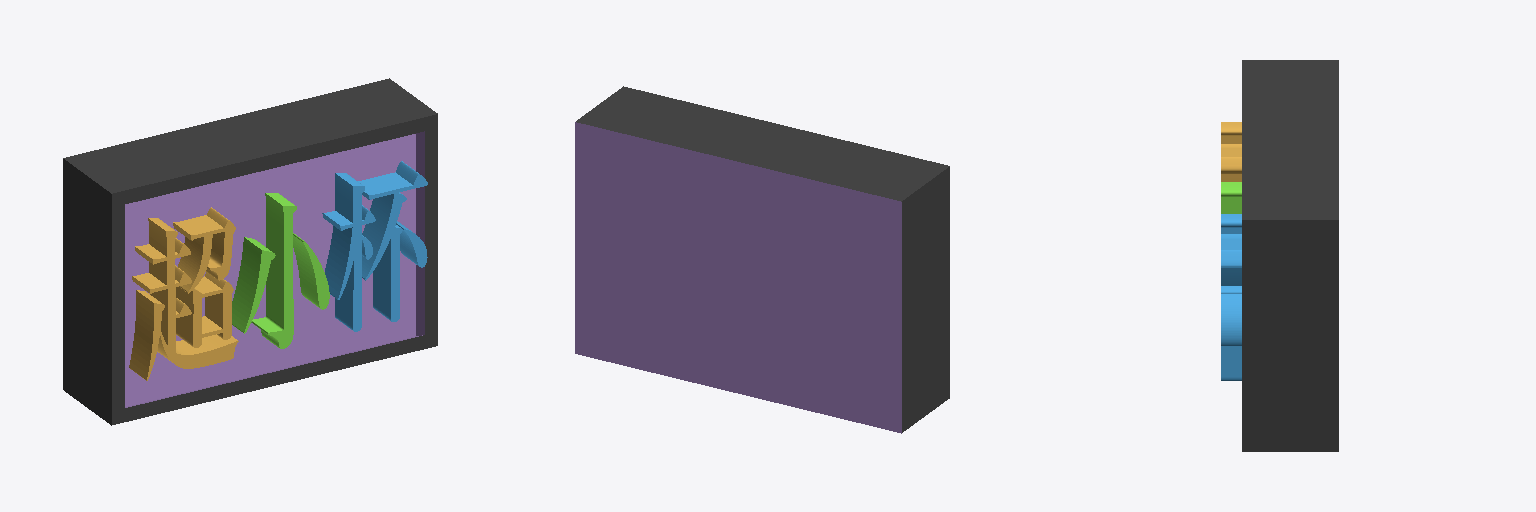
3 renders of one model, left to right at view 1: azimuth 30°, elevation 25°; view 2: azimuth 150°, elevation 25°; view 3: azimuth 270°, elevation 25°, orthographic.
Parts seen in each view (by area): view 1: Cube, Text; view 2: Cube; view 3: Cube, Text.
Part boxes in pixels (x1,y1,x2,y2): Cube: (63,78,437,425); Text: (129,161,427,380); Cube: (575,86,949,433); Cube: (1242,60,1338,451); Text: (1221,122,1241,380).
Size of the model in its own units: 2 by 1.36 by 0.6295.
Materials: 4 (1 with a texture image).